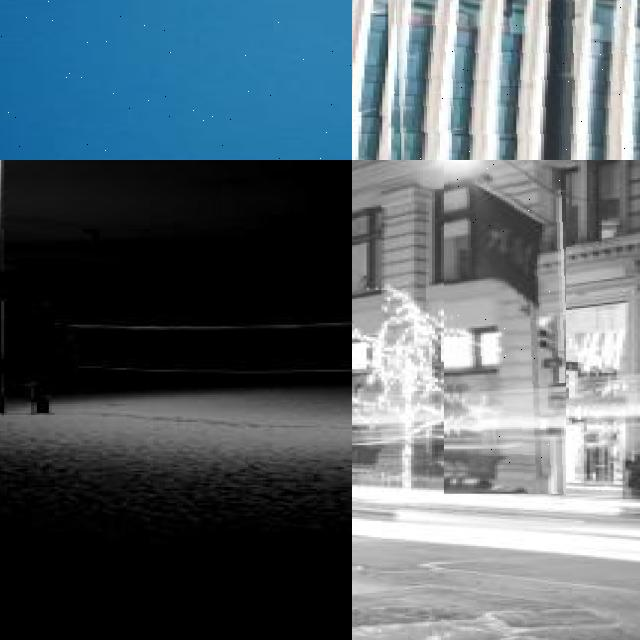street light: (0, 0, 352, 160), (444, 160, 566, 493), (388, 0, 640, 160), (0, 160, 39, 413), (84, 229, 100, 336)
